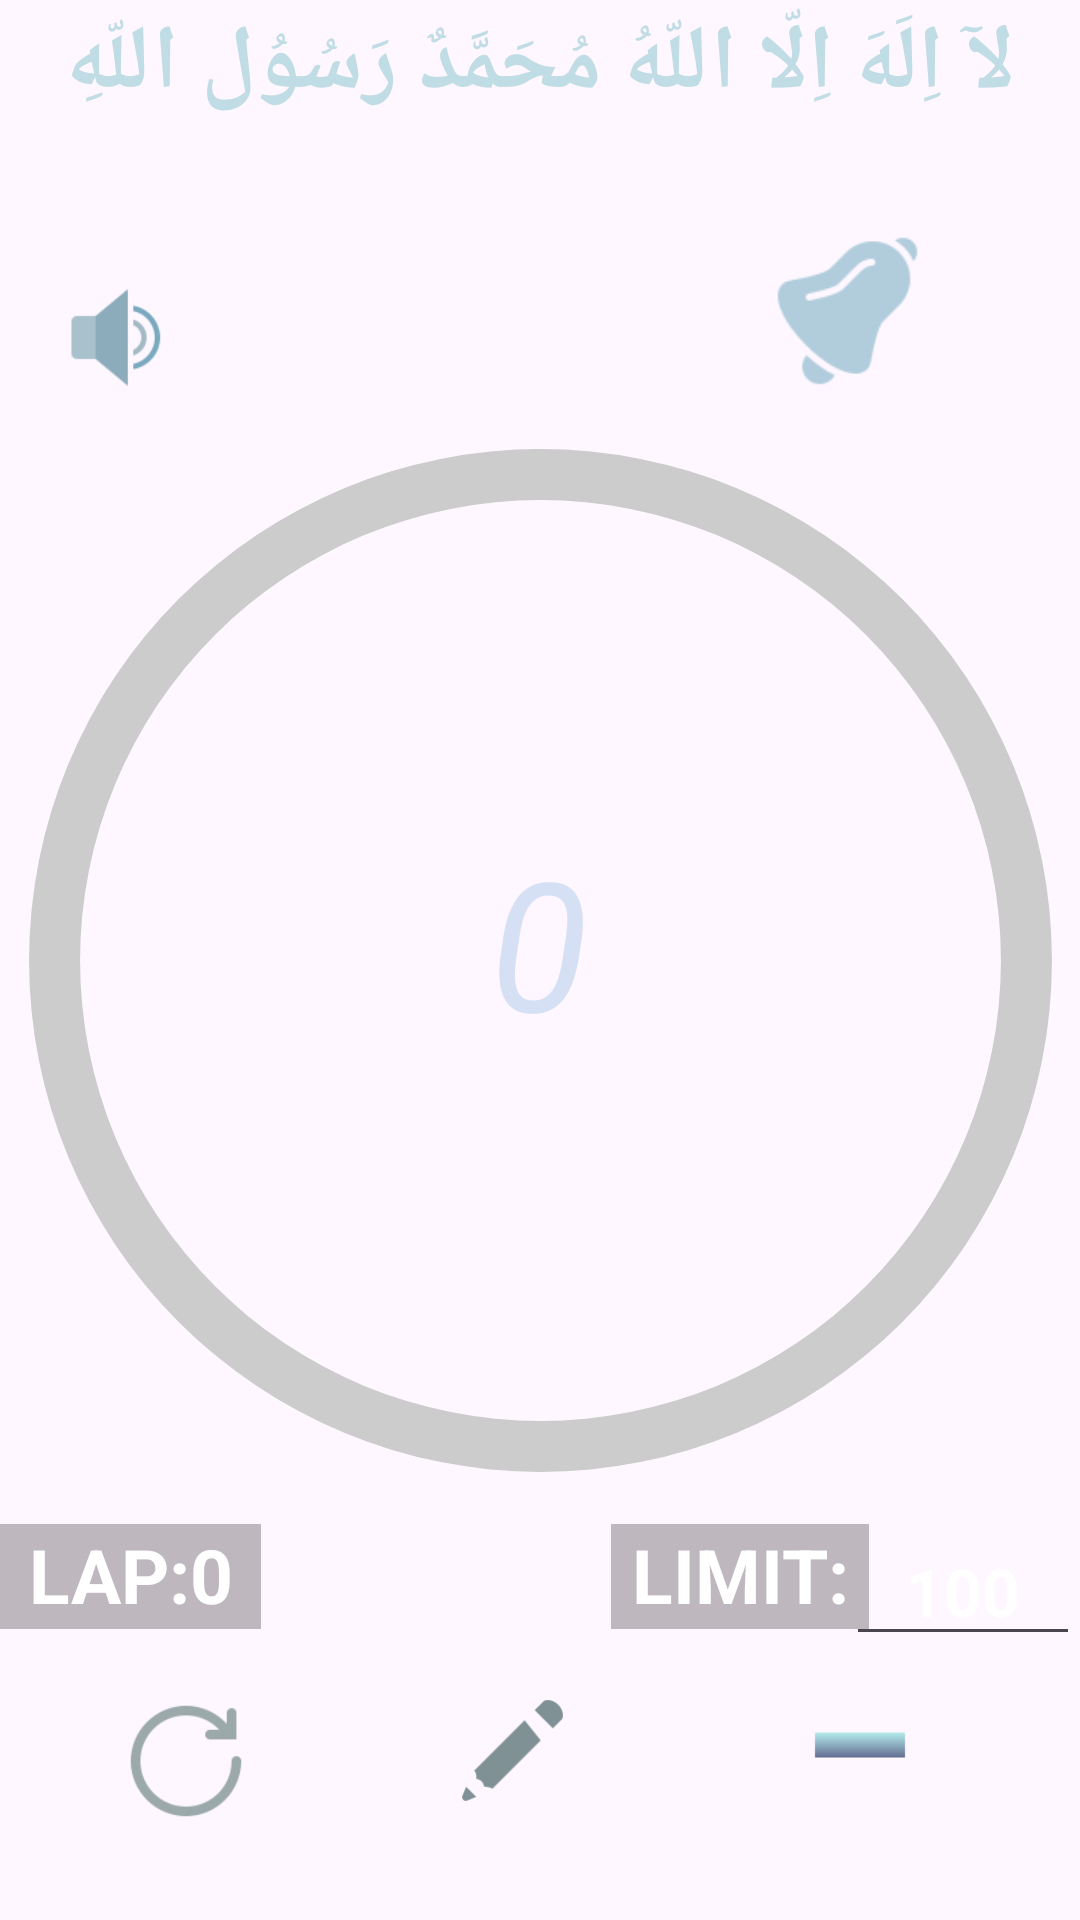

Where icons sit on this 1080 × 1920 app screen, as (x1, y1, x2, y2):
bell: (778, 238, 917, 384)
edit: (462, 1700, 563, 1801)
reset: (130, 1705, 241, 1817)
volume: (71, 289, 161, 386)
